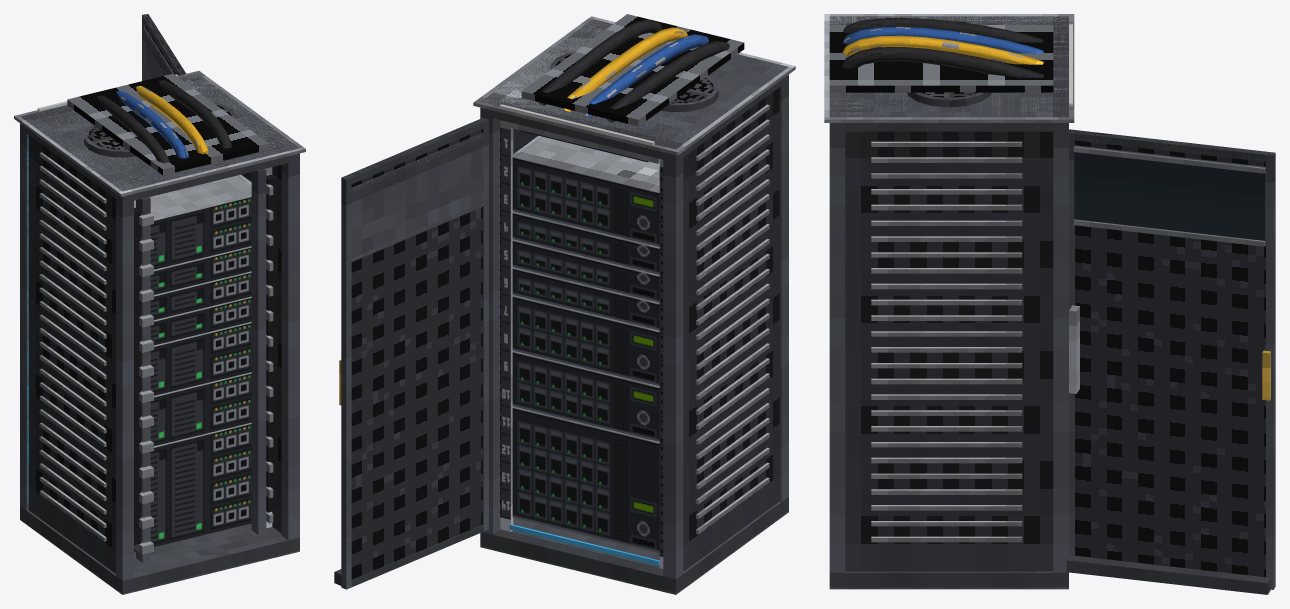
The model's file is server_rack.obj.
3 views of the same model, side by side, from view 1: azimuth 30°, elevation 25°; view 2: azimuth 150°, elevation 25°; view 3: azimuth 270°, elevation 25° (orthographic). The views are drawn at different scales.
Size of the model in its own units: 0.5529 by 1 by 0.8087.
